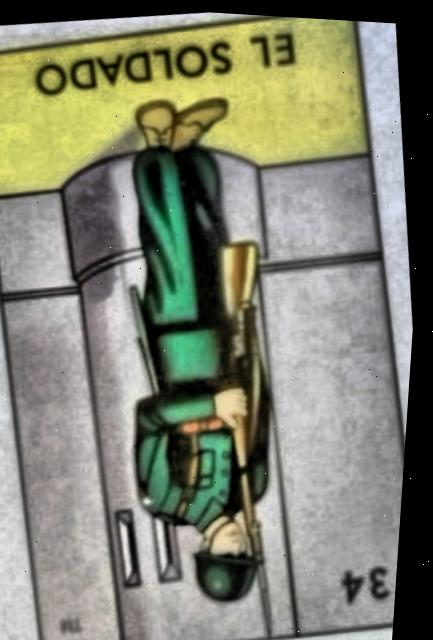El Soldado: (0, 12, 410, 640)
